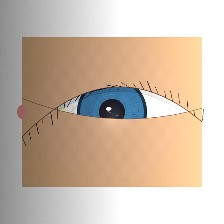pinguecula_lesion: (33, 93, 80, 131)
